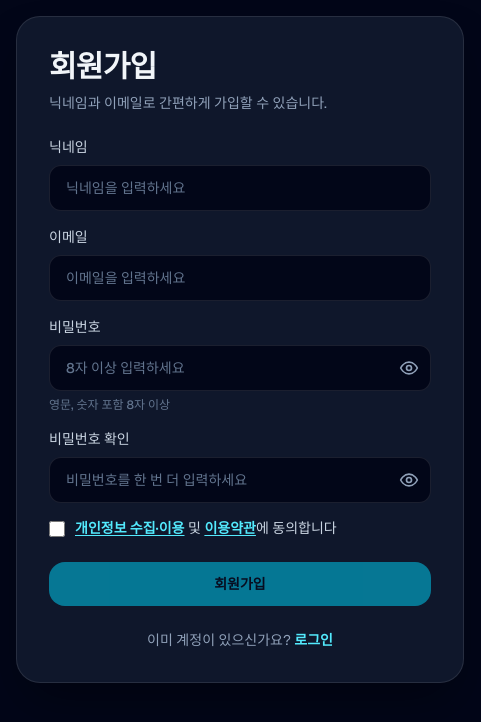
Test: 회원가입 약관 동의 › 체크박스를 누르면 제출이 활성화되고, 다시 누르면 비활성화된다
The width and height of the screenshot is (481, 722).
Type "abcd1234" into the password field with placeholder "8자 이상 입력하세요".
click(240, 368); type("abcd1234")  # box [49,345,431,391]
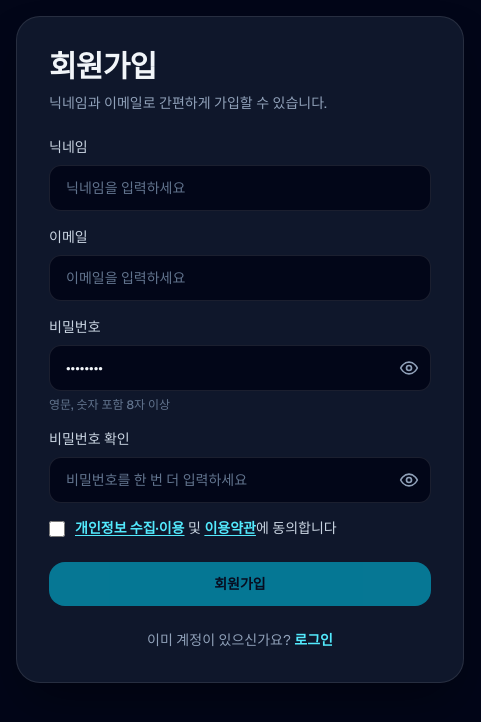
Type "abcd1234" into the password field with placeholder "비밀번호를 한 번 더 입력하세요".
click(240, 480); type("abcd1234")  # box [49,457,431,503]
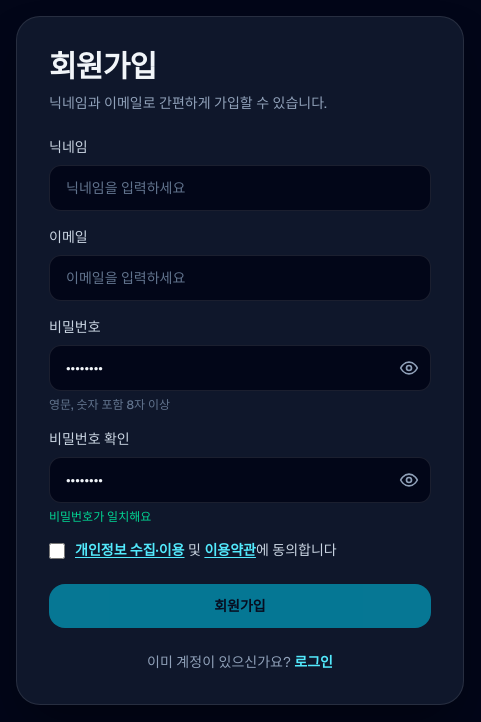
Click the checkbox.
click(57, 551)  # box [49,543,65,559]
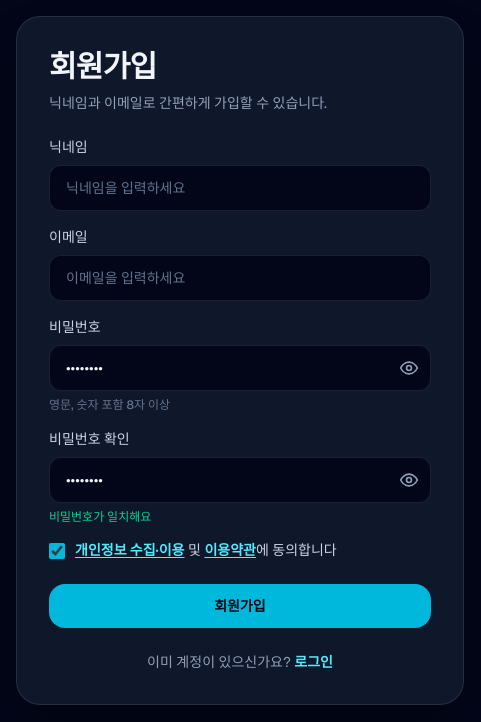
Check: the button "회원가입" is enabled, box [49,584,431,628]
Click the checkbox.
click(57, 551)  # box [49,543,65,559]
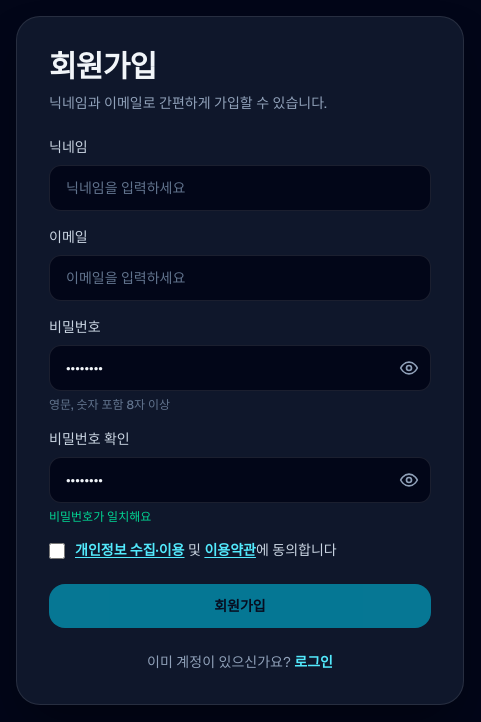
Check: the button "회원가입" is disabled, box [49,584,431,628]
